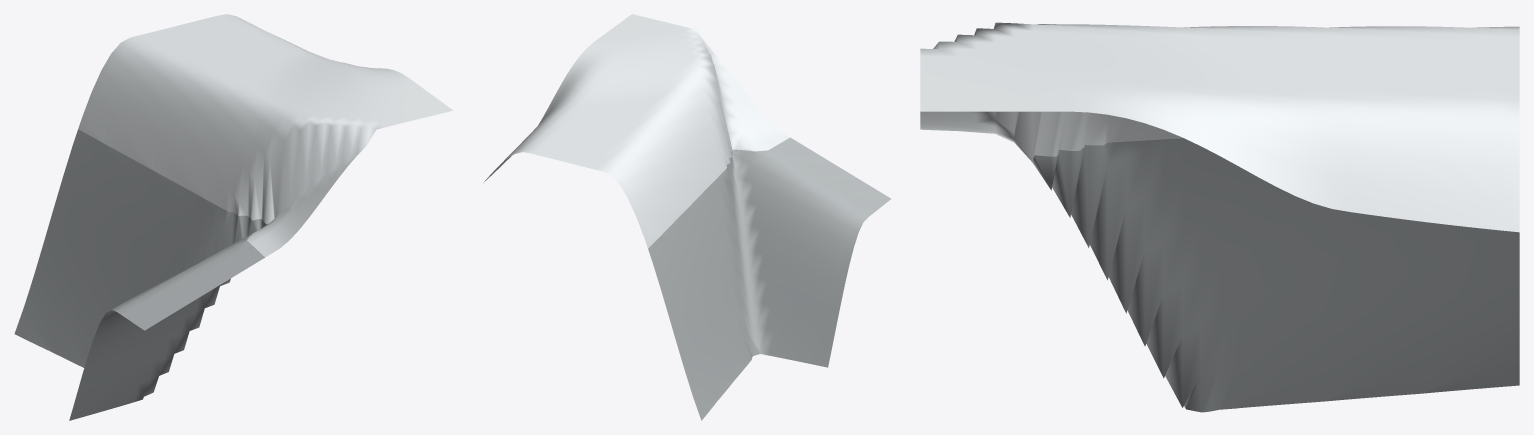
Rendered from alpine-12-11.glb.
3 views of the same model, side by side, from view 1: azimuth 30°, elevation 25°; view 2: azimuth 150°, elevation 25°; view 3: azimuth 270°, elevation 25° (orthographic). The views are drawn at different scales.
Parts seen in each view (by area): view 1: alpine-12-11; view 2: alpine-12-11; view 3: alpine-12-11.
Part boxes in pixels (bbox=[...]): alpine-12-11: bbox=[14, 14, 452, 420]; alpine-12-11: bbox=[483, 14, 891, 420]; alpine-12-11: bbox=[920, 22, 1519, 412].
Bounding box in the file's own units: 256 × 230 × 256.
Materials: 2 (2 with a texture image).
